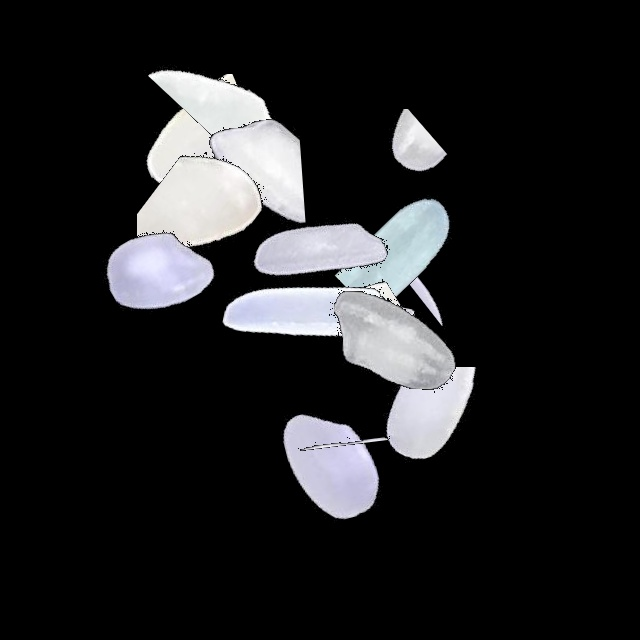Broken: (333, 116, 491, 366), (318, 367, 568, 525), (99, 97, 349, 252), (137, 114, 288, 364), (60, 74, 310, 218), (129, 20, 379, 151), (290, 266, 396, 516), (259, 109, 509, 211), (401, 131, 500, 381), (329, 229, 423, 479)
Full: (194, 129, 444, 379), (33, 146, 283, 396), (195, 188, 445, 438), (268, 216, 518, 466), (205, 338, 455, 588)
